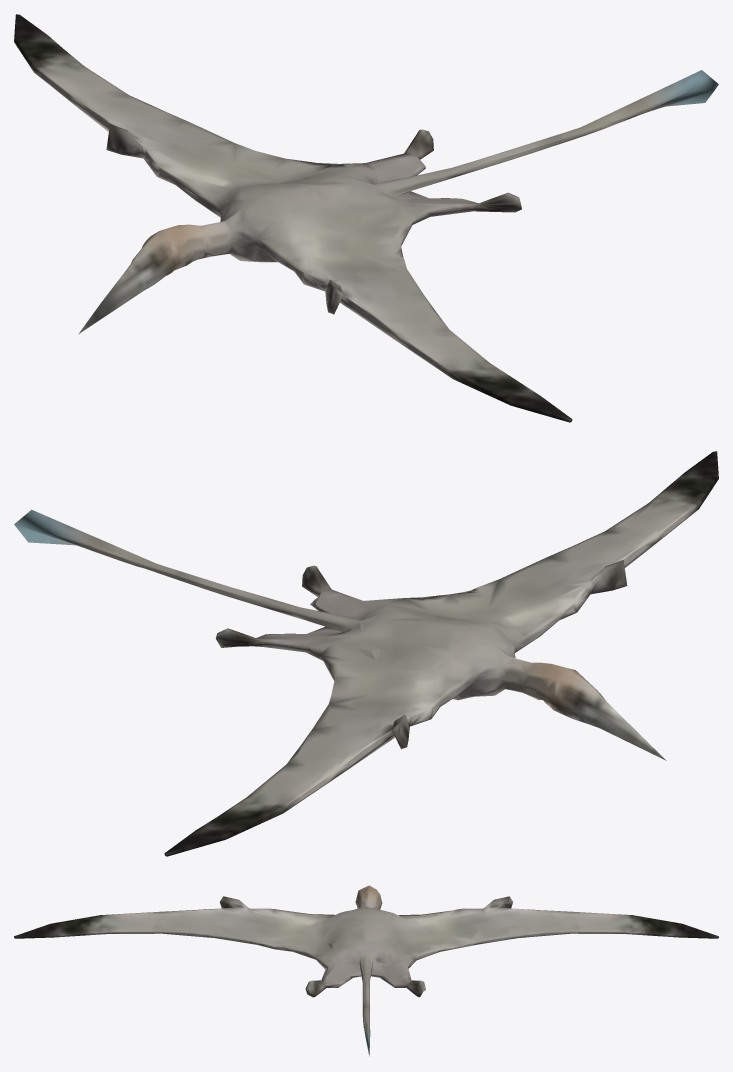
File: nature-rhamphorhynchus.glb
3 renders of one model, top to bottom at view 1: azimuth 30°, elevation 25°; view 2: azimuth 150°, elevation 25°; view 3: azimuth 270°, elevation 25°, orthographic. The views are drawn at different scales.
Parts seen in each view (by area): view 1: Animal; view 2: Animal; view 3: Animal.
Part boxes in pixels (box(x1,y1,x2,y2)): Animal: box(14, 14, 718, 422); Animal: box(14, 451, 718, 856); Animal: box(14, 885, 718, 1056).
Bounding box in the file's own units: 2.16 × 0.3338 × 3.2.
1 material, 1 textured.
